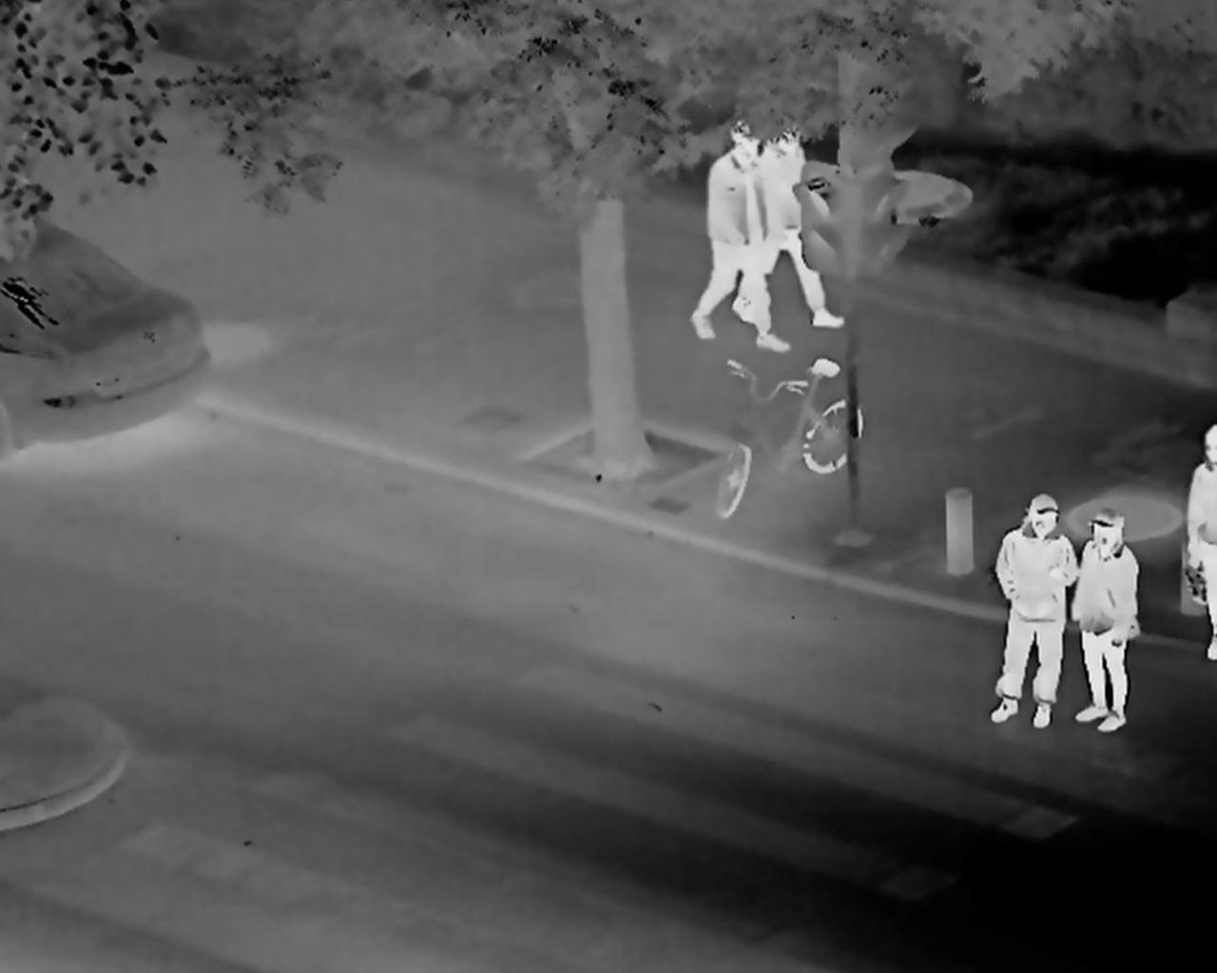person: (755, 114, 845, 347), (993, 493, 1078, 728), (699, 121, 779, 351), (1070, 509, 1137, 731)
